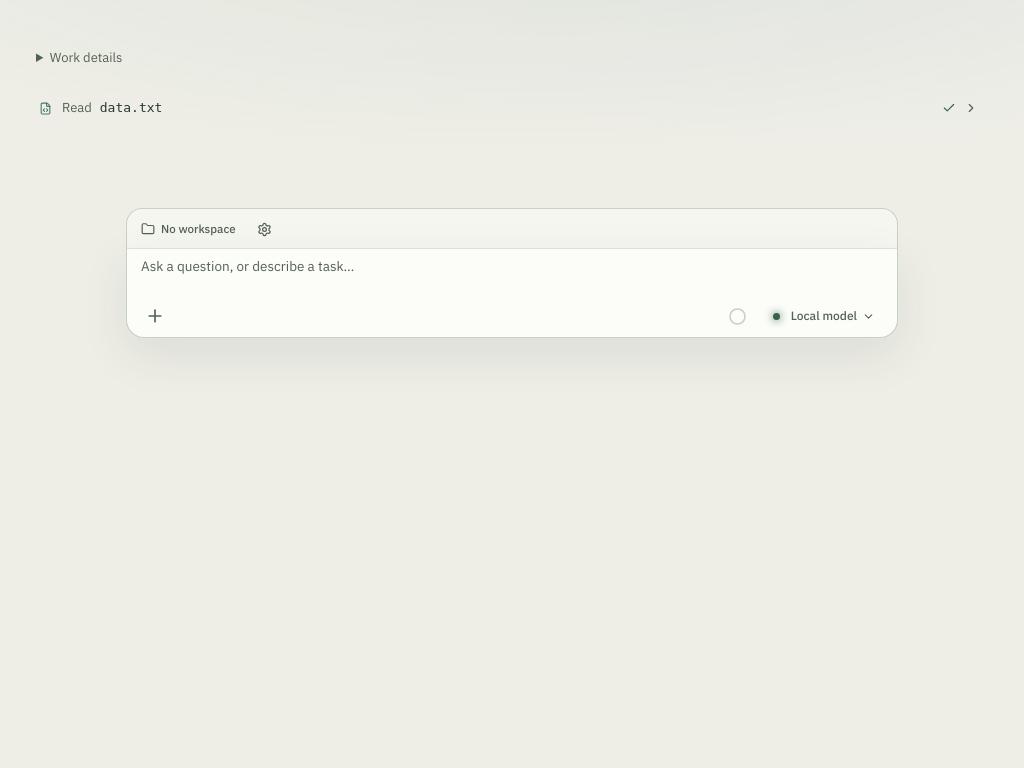
Test case: inspects bounded tool output artifact on demand
Click the heading "Read data.txt".
click(131, 108)  # box [36,90,978,126]
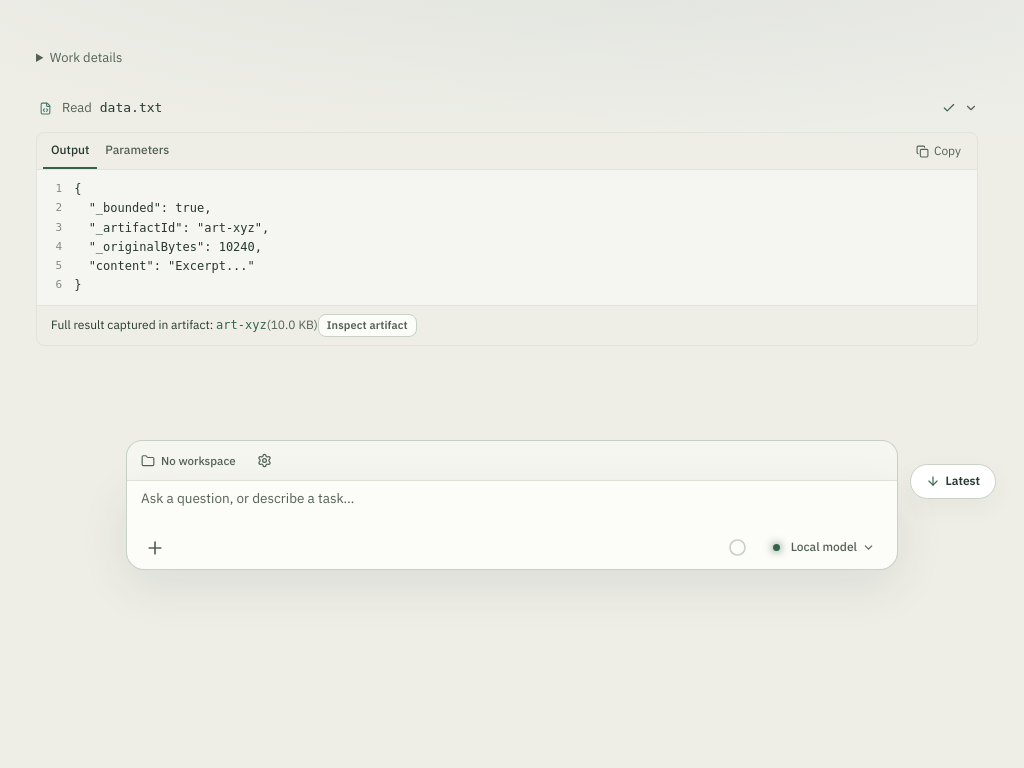
Expected: the text "Full result captured in artifact: art-xyz" is shown, [51,317,267,332]
Expected: the text "art-xyz" is shown, [216,318,267,332]
Expected: the text "(10.0 KB)" is shown, [267,317,318,332]
Click the button "Inspect artifact".
click(367, 326)  # box [318,314,417,337]
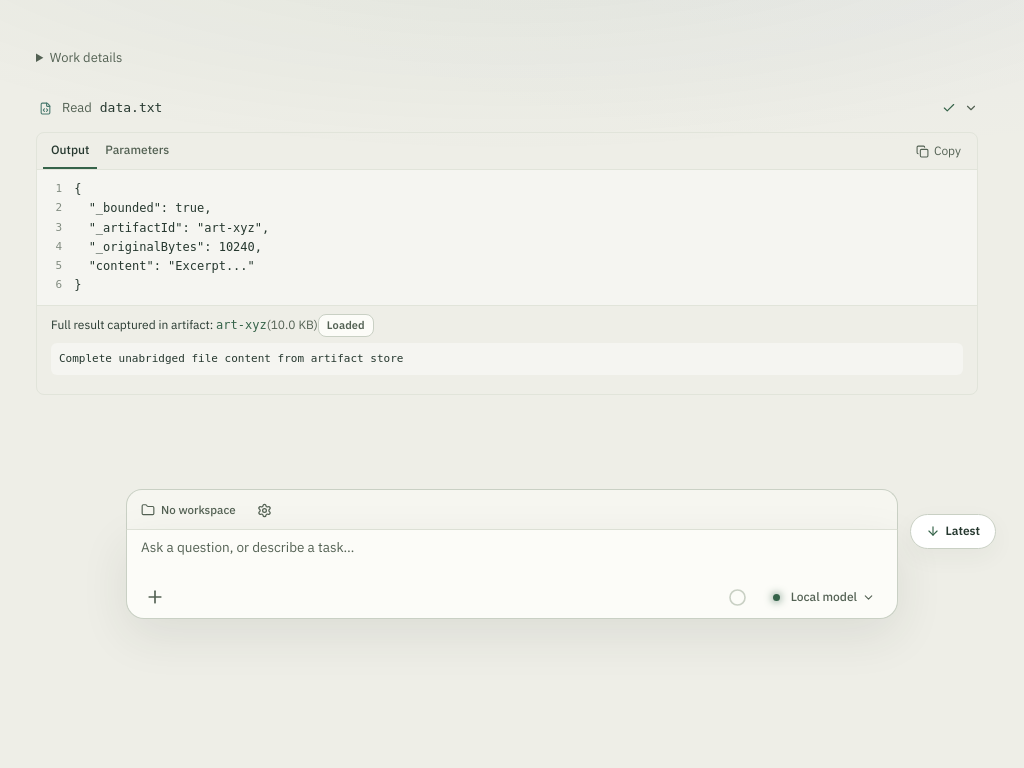
Expected: the text "Complete unabridged file content from artifact store" is shown, [51,343,963,375]
Expected: the button "Loaded" is shown, [318,314,374,337]
